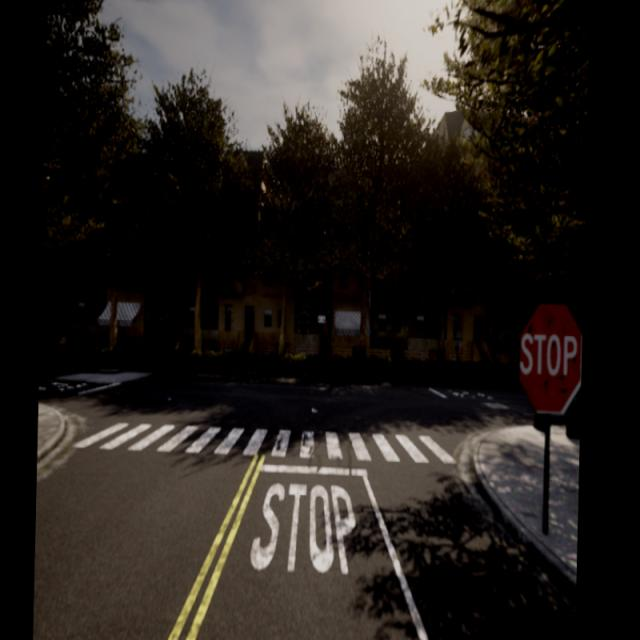stop sign: (514, 298, 584, 419), (518, 330, 578, 378)
